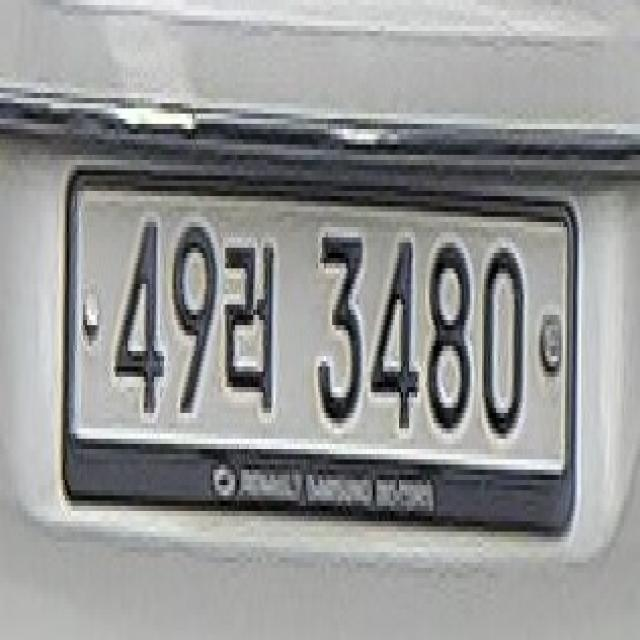0: (478, 236, 526, 453)
3: (312, 211, 365, 449)
4: (368, 226, 426, 444), (113, 204, 167, 412)
8: (426, 228, 478, 456)
9: (174, 222, 219, 426)
leo: (222, 208, 278, 424)
license_plate: (59, 174, 581, 511)
